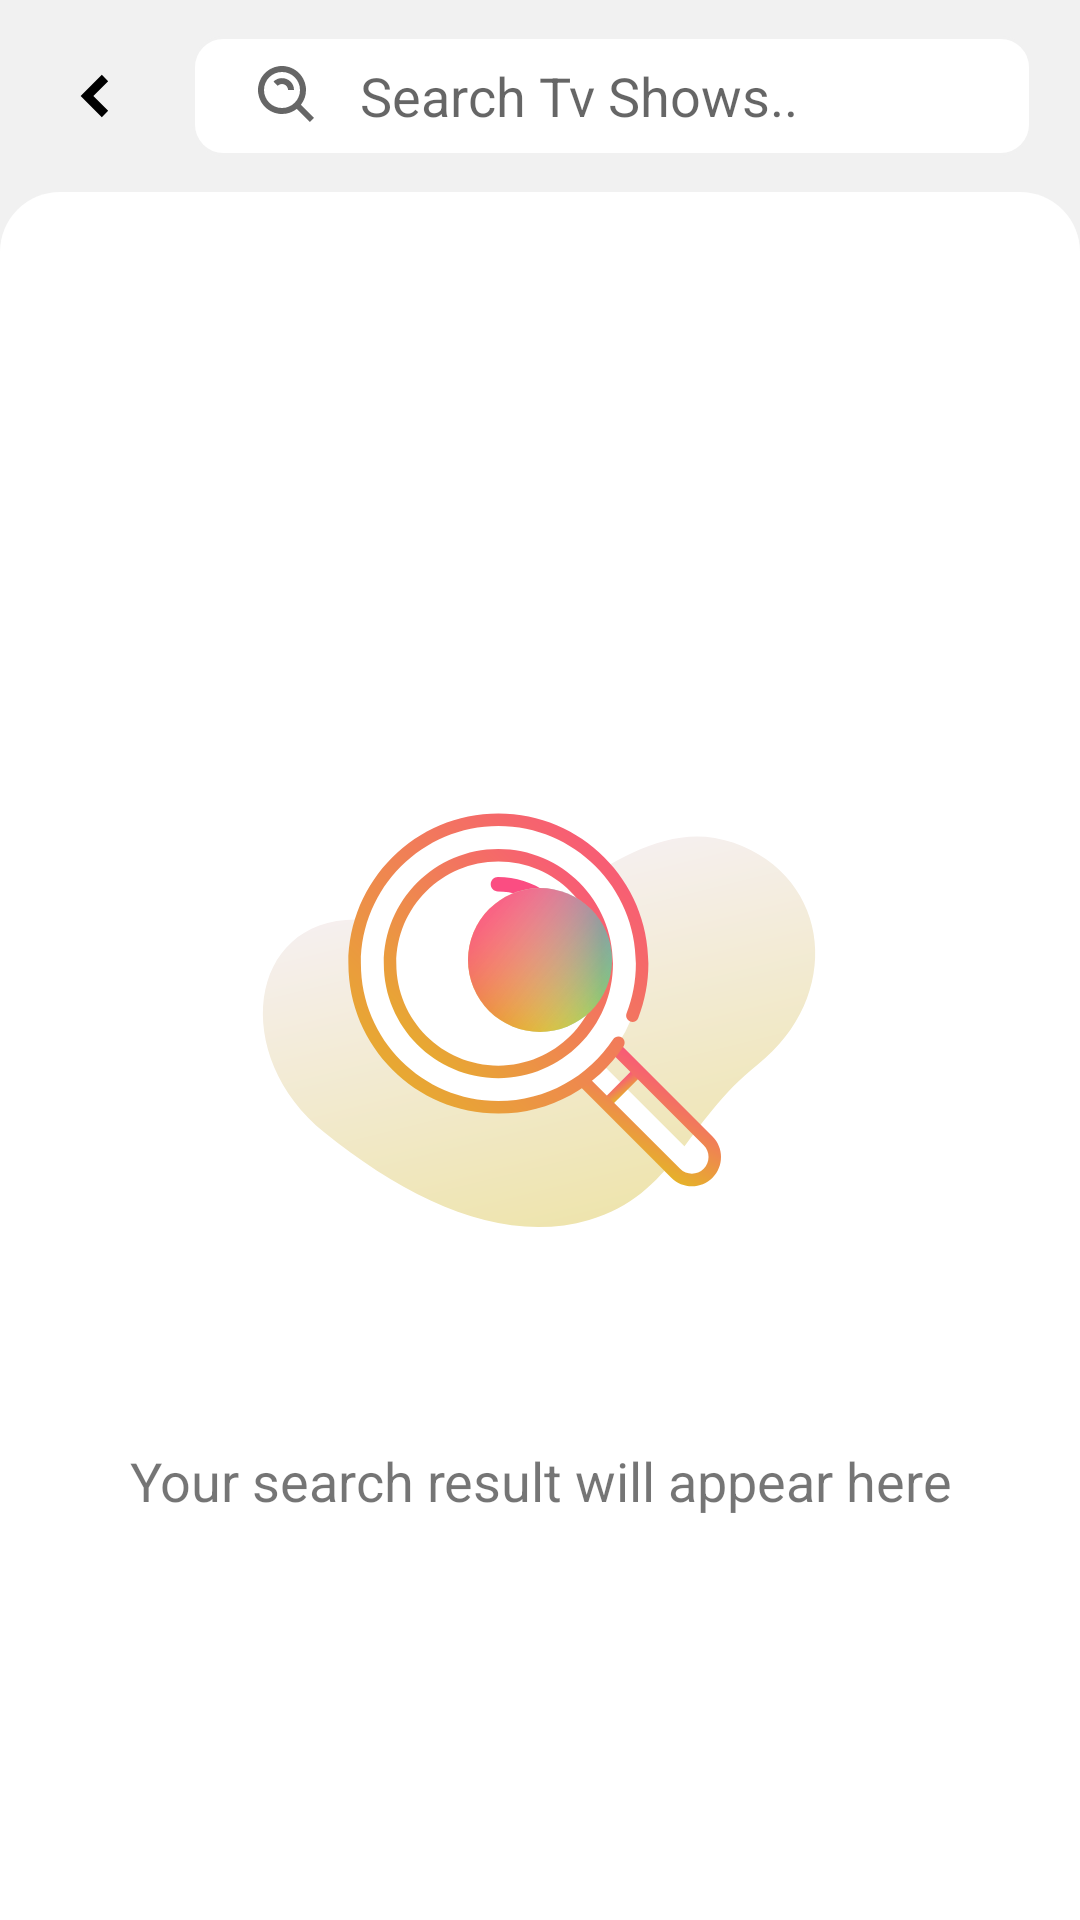

Screen size 1080x1920. Icon name, then its center in pixels as [x,y]:
back button: [94,96]
